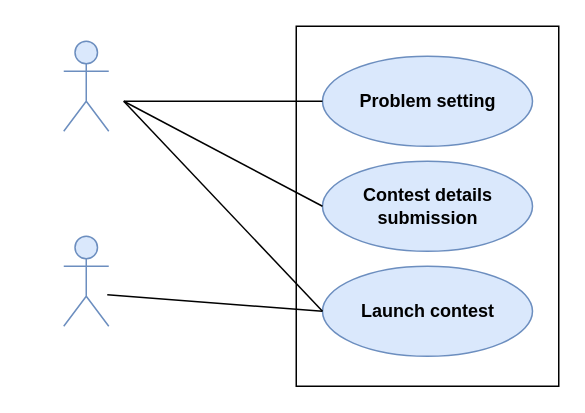
Image size: 585x413. Some labels were removed from this diagram. Here are the shapes that lost their labels. From the top down, the centre of each, then its label:
At (x=85, y=85): "Problem-Setter".
At (x=85, y=280): "Admin".
